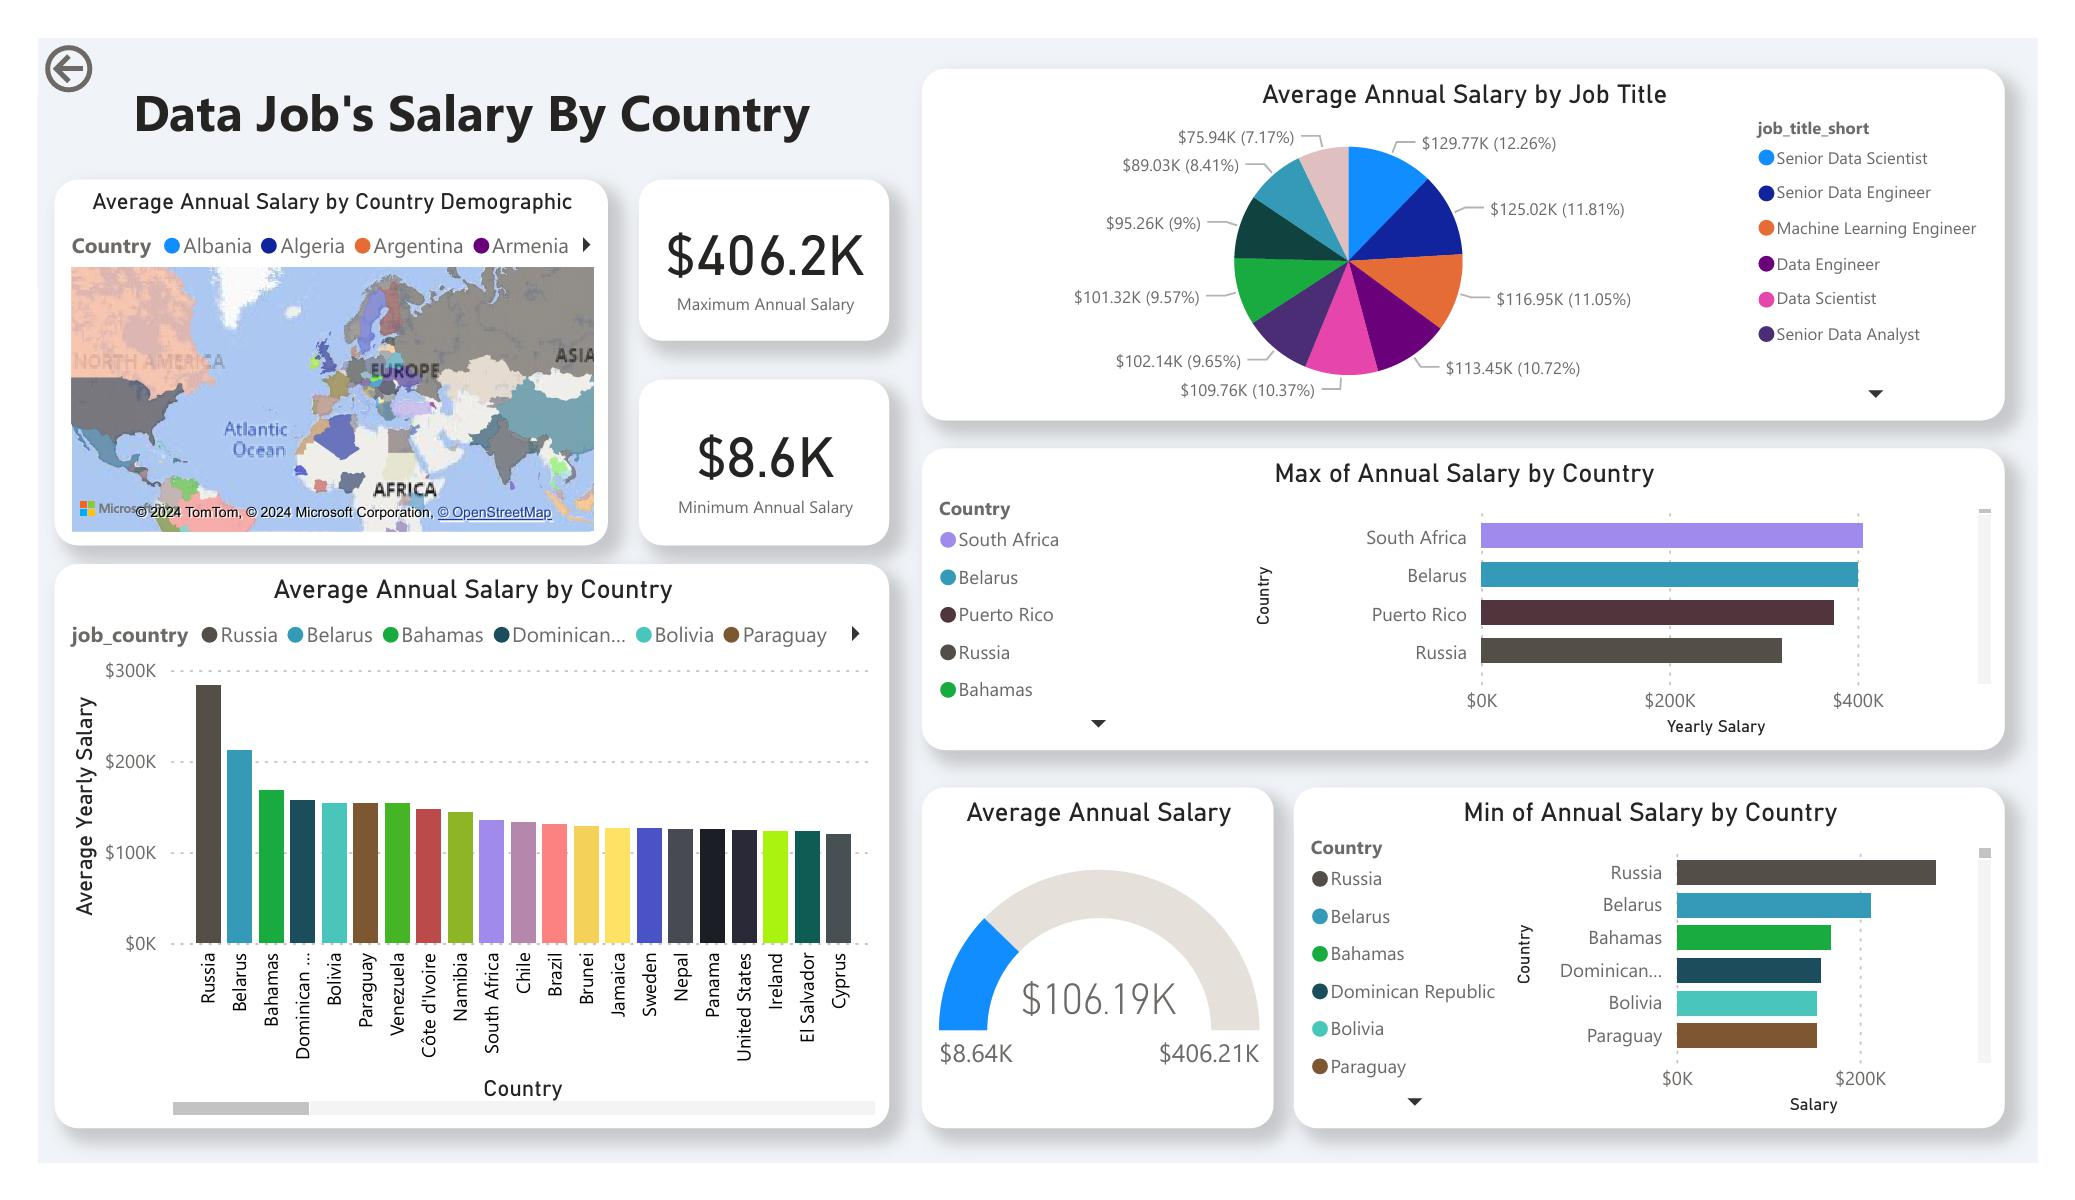

The page's visual inventory and layout, read from the dashboard file:
{"tool":"powerbi","page":{"name":"Page 1","canvas":[1280,720],"ordinal":0},"visuals":[{"type":"filledMap","title":"Average Annual Salary by Country Demographic","fields":{"Category":["Country Average Salary by Job.job_country"],"Series":["Country Average Salary by Job.job_country"]},"box":[10.9,90.9,353.6,233.6],"z":0},{"type":"textbox","box":[10.9,20,534.5,60],"z":1000},{"type":"card","fields":{"Values":["Max(Country Average Salary by Job.yearly_salary)"]},"box":[384.5,90.9,160.9,102.7],"z":2000},{"type":"card","fields":{"Values":["Min(Country Average Salary by Job.yearly_salary)"]},"box":[384.5,219.1,160.9,105.5],"z":3000},{"type":"columnChart","title":"Average Annual Salary by Country","fields":{"Category":["Country Average Salary by Job.job_country"],"Y":["Avg(Country Average Salary by Job.yearly_salary)"],"Series":["Country Average Salary by Job.job_country"]},"box":[10.9,337.3,534.5,360.9],"z":4000},{"type":"actionButton","box":[0,0,100,40],"z":5000},{"type":"pieChart","title":"Average Annual Salary by Job Title","fields":{"Category":["Country Average Salary by Job.job_title_short"],"Y":["Avg(Country Average Salary by Job.yearly_salary)"]},"box":[566.4,20,692.7,224.5],"z":6000},{"type":"gauge","title":"Average Annual Salary","fields":{"Y":["Avg(Country Average Salary by Job.yearly_salary)"],"MinValue":["Min(Country Average Salary by Job.yearly_salary)"],"MaxValue":["Max(Country Average Salary by Job.yearly_salary)"]},"box":[566.4,480,224.5,218.2],"z":7000},{"type":"barChart","title":"Max of Annual Salary by Country","fields":{"Category":["Country Average Salary by Job.job_country"],"Y":["Max(Country Average Salary by Job.yearly_salary)"],"Series":["Country Average Salary by Job.job_country"]},"box":[566.4,262.7,692.7,193.6],"z":8000},{"type":"barChart","title":"Min of Annual Salary by Country","fields":{"Category":["Country Average Salary by Job.job_country"],"Y":["Avg(Country Average Salary by Job.yearly_salary)"],"Series":["Country Average Salary by Job.job_country"]},"box":[803.6,480,455.5,218.2],"z":9000}]}

Visuals, with their boxes on the page's 1280x720 design canvas (x1, y1, x2, y2). These are canvas units, not pixel positions in the 2075x1200 screenshot, which may show the page scaled, cropped or inside an application window:
"Average Annual Salary by Country Demographic" filledMap: (left=11, top=91, right=364, bottom=324)
textbox: (left=11, top=20, right=545, bottom=80)
card - Max(Country Average Salary by Job.yearly_salary): (left=384, top=91, right=545, bottom=194)
card - Min(Country Average Salary by Job.yearly_salary): (left=384, top=219, right=545, bottom=325)
"Average Annual Salary by Country" columnChart: (left=11, top=337, right=545, bottom=698)
actionButton: (left=0, top=0, right=100, bottom=40)
"Average Annual Salary by Job Title" pieChart: (left=566, top=20, right=1259, bottom=244)
"Average Annual Salary" gauge: (left=566, top=480, right=791, bottom=698)
"Max of Annual Salary by Country" barChart: (left=566, top=263, right=1259, bottom=456)
"Min of Annual Salary by Country" barChart: (left=804, top=480, right=1259, bottom=698)
